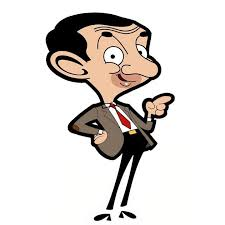mrbean: (45, 12, 174, 222)
